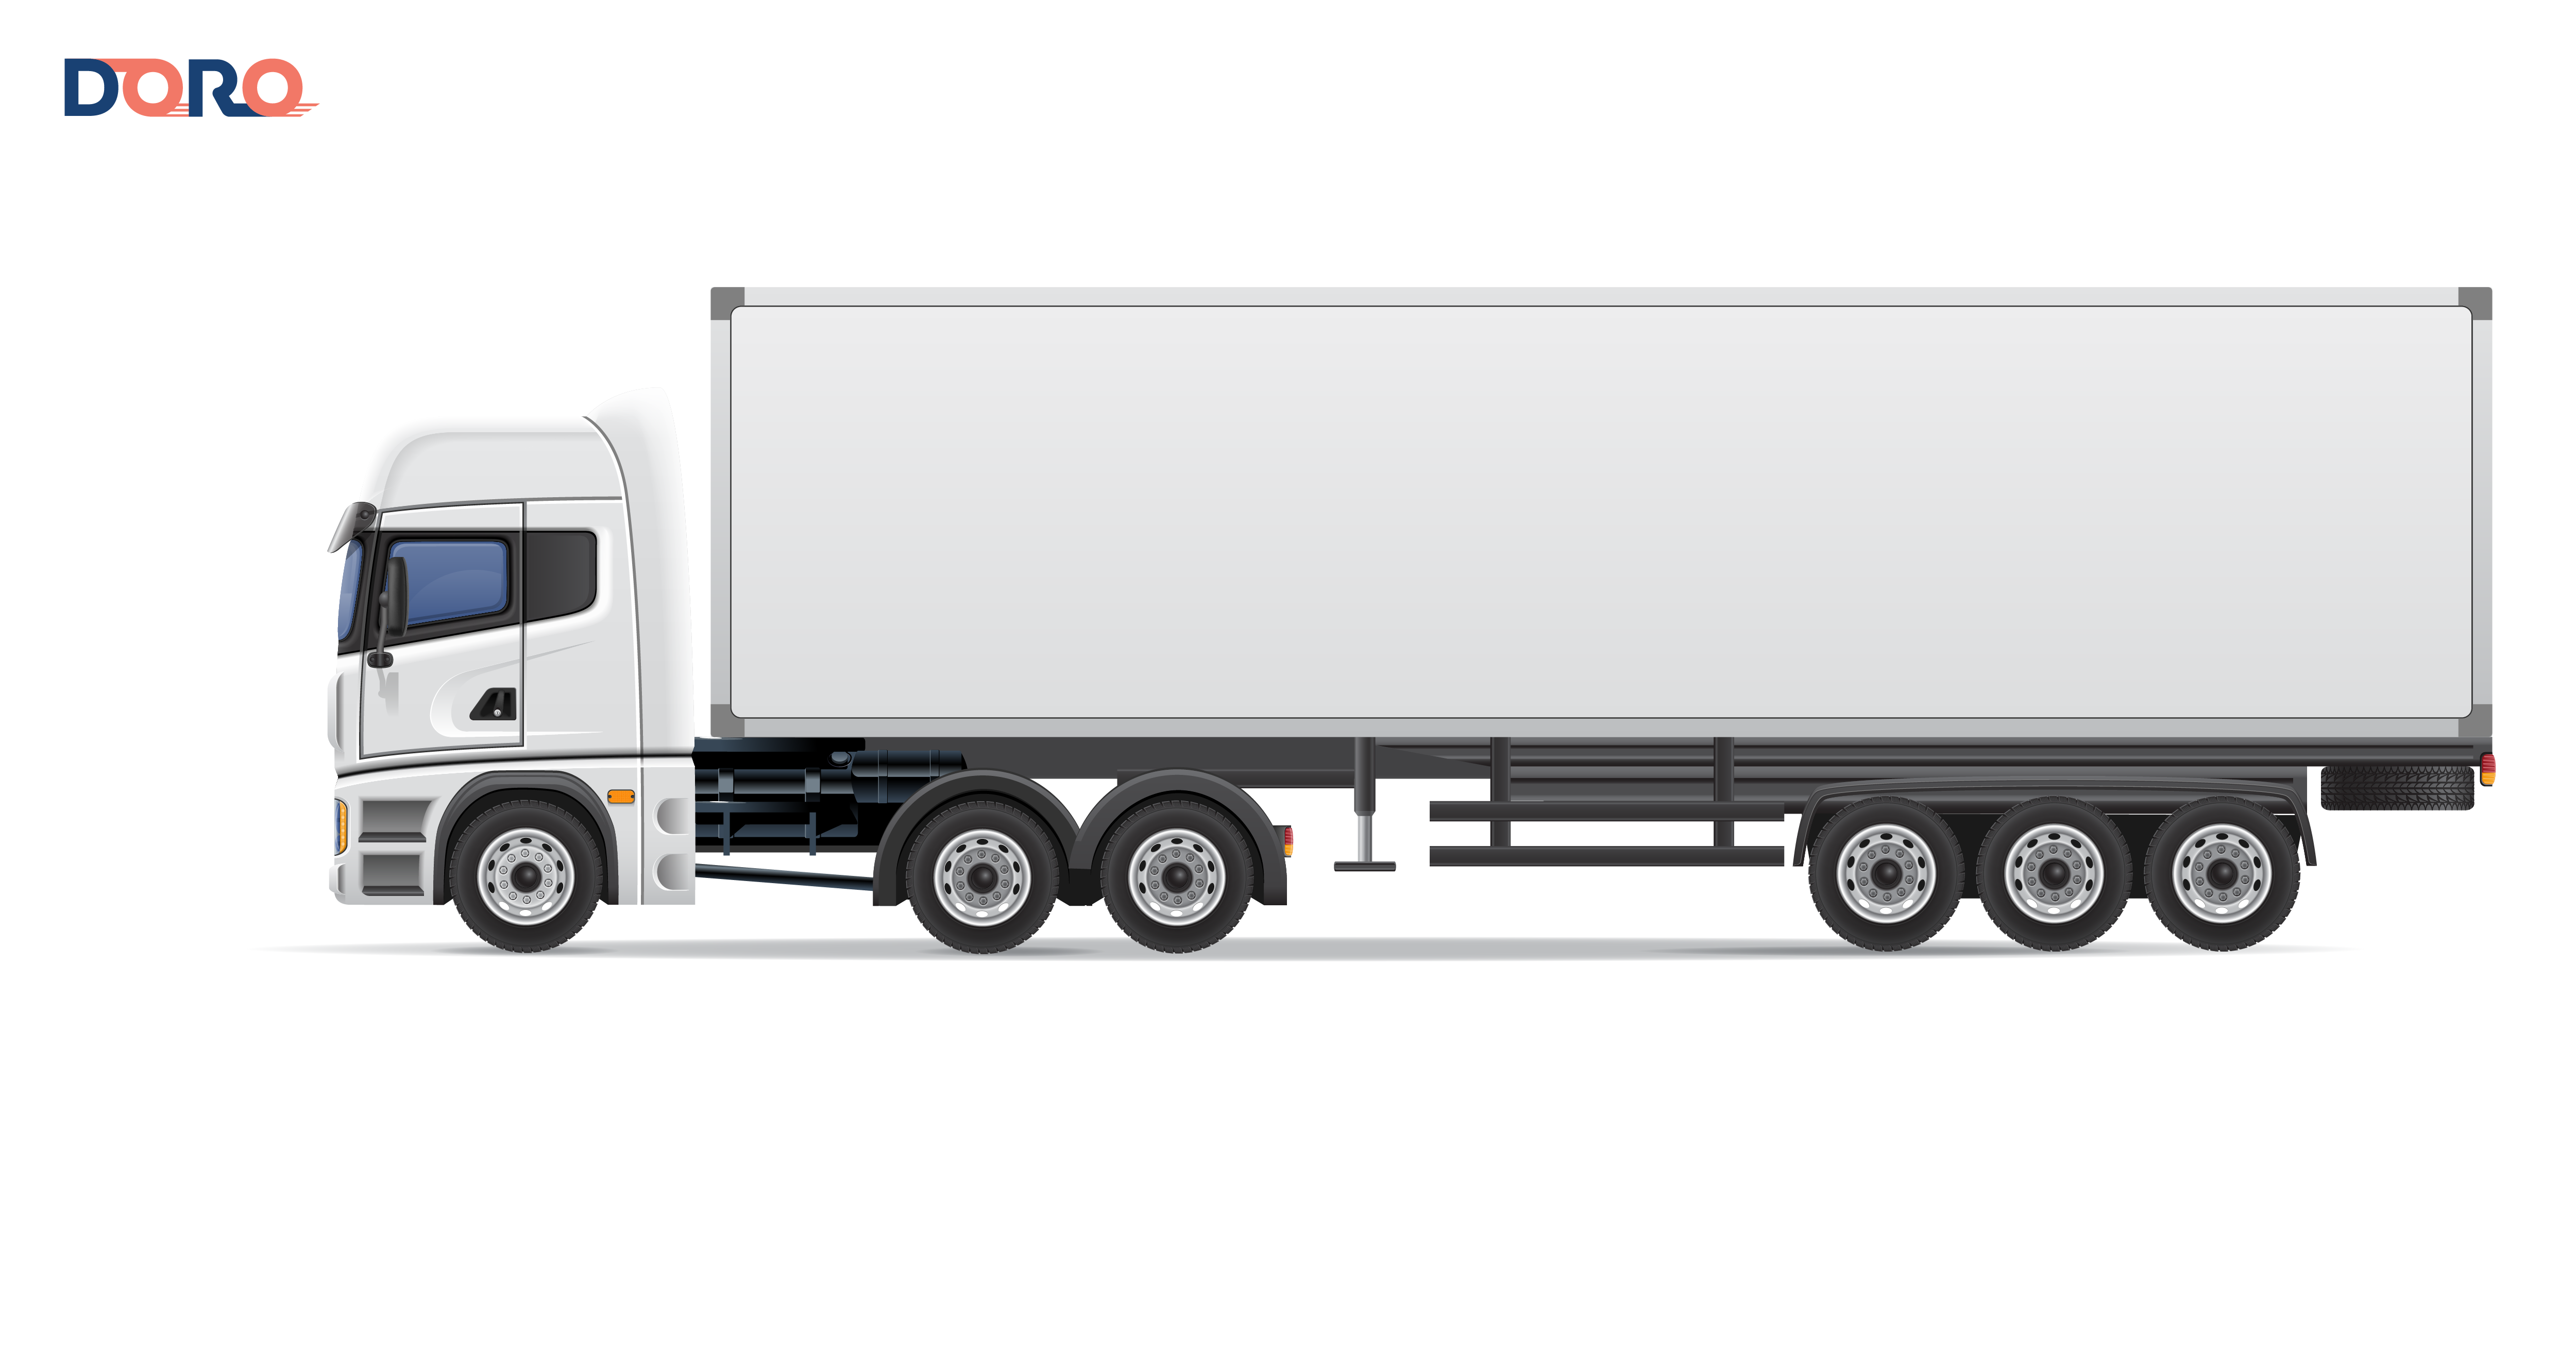truck: (313, 293, 2499, 958)
